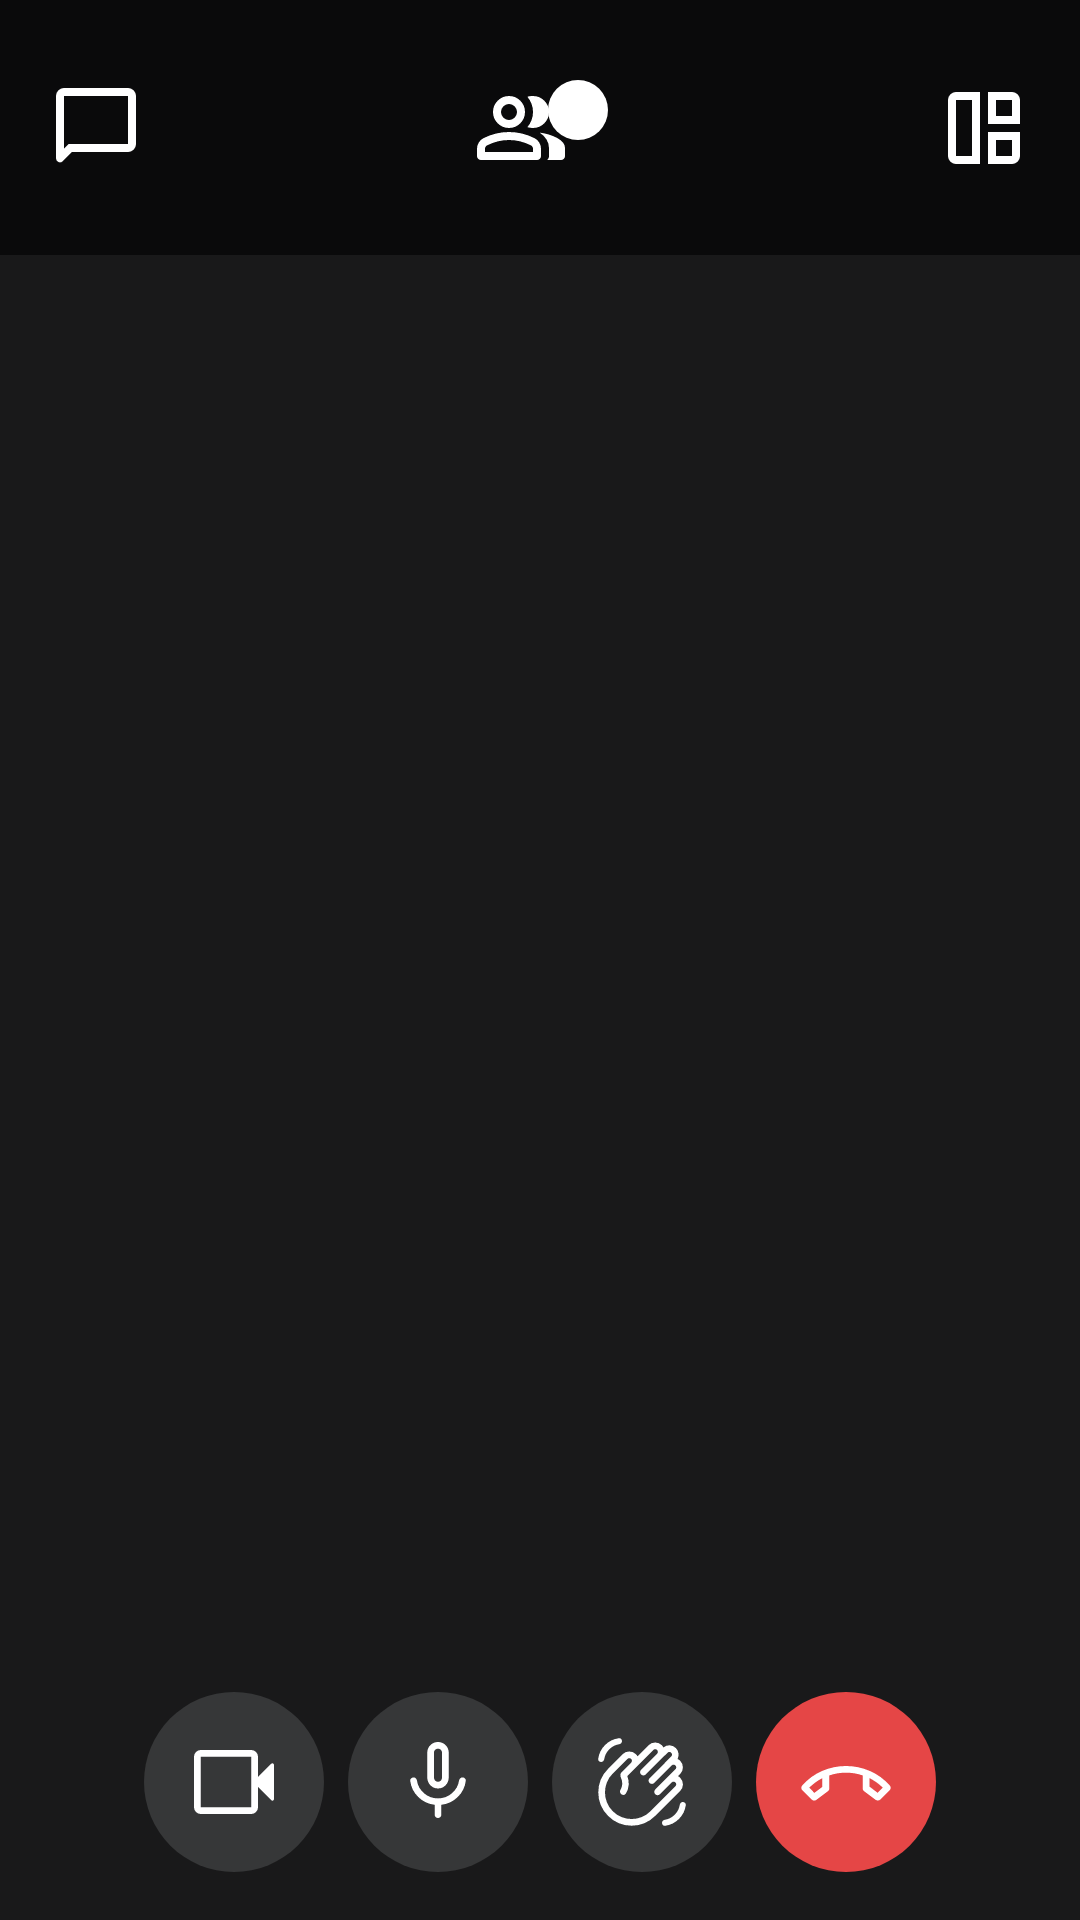

Screen size 1080w x 1920h. Icon name, then its center in pixels as [x,y]:
auto awesome mosaic: [984,128]
call end: [846,1782]
chat bubble: [96,125]
mic: [438,1782]
videocam: [234,1782]
waving hand: [642,1782]
